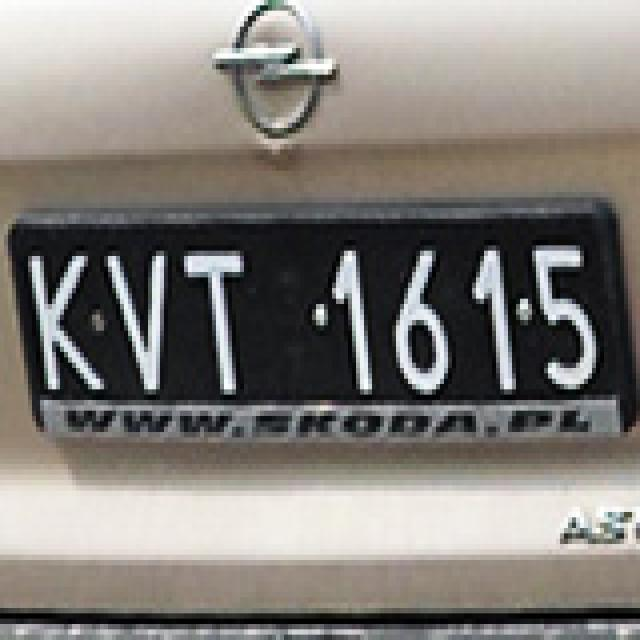pl_license_plate: (8, 202, 628, 394)
